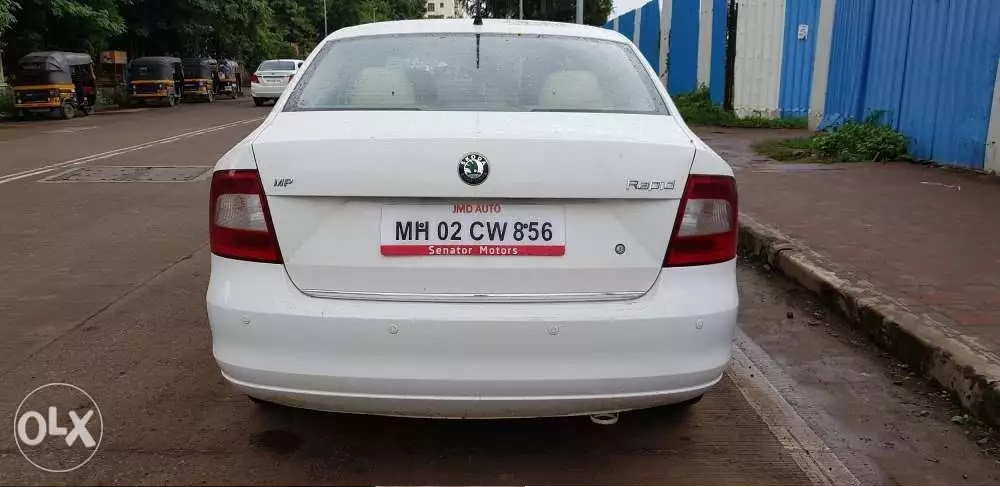licenseplate: (379, 201, 572, 258)
